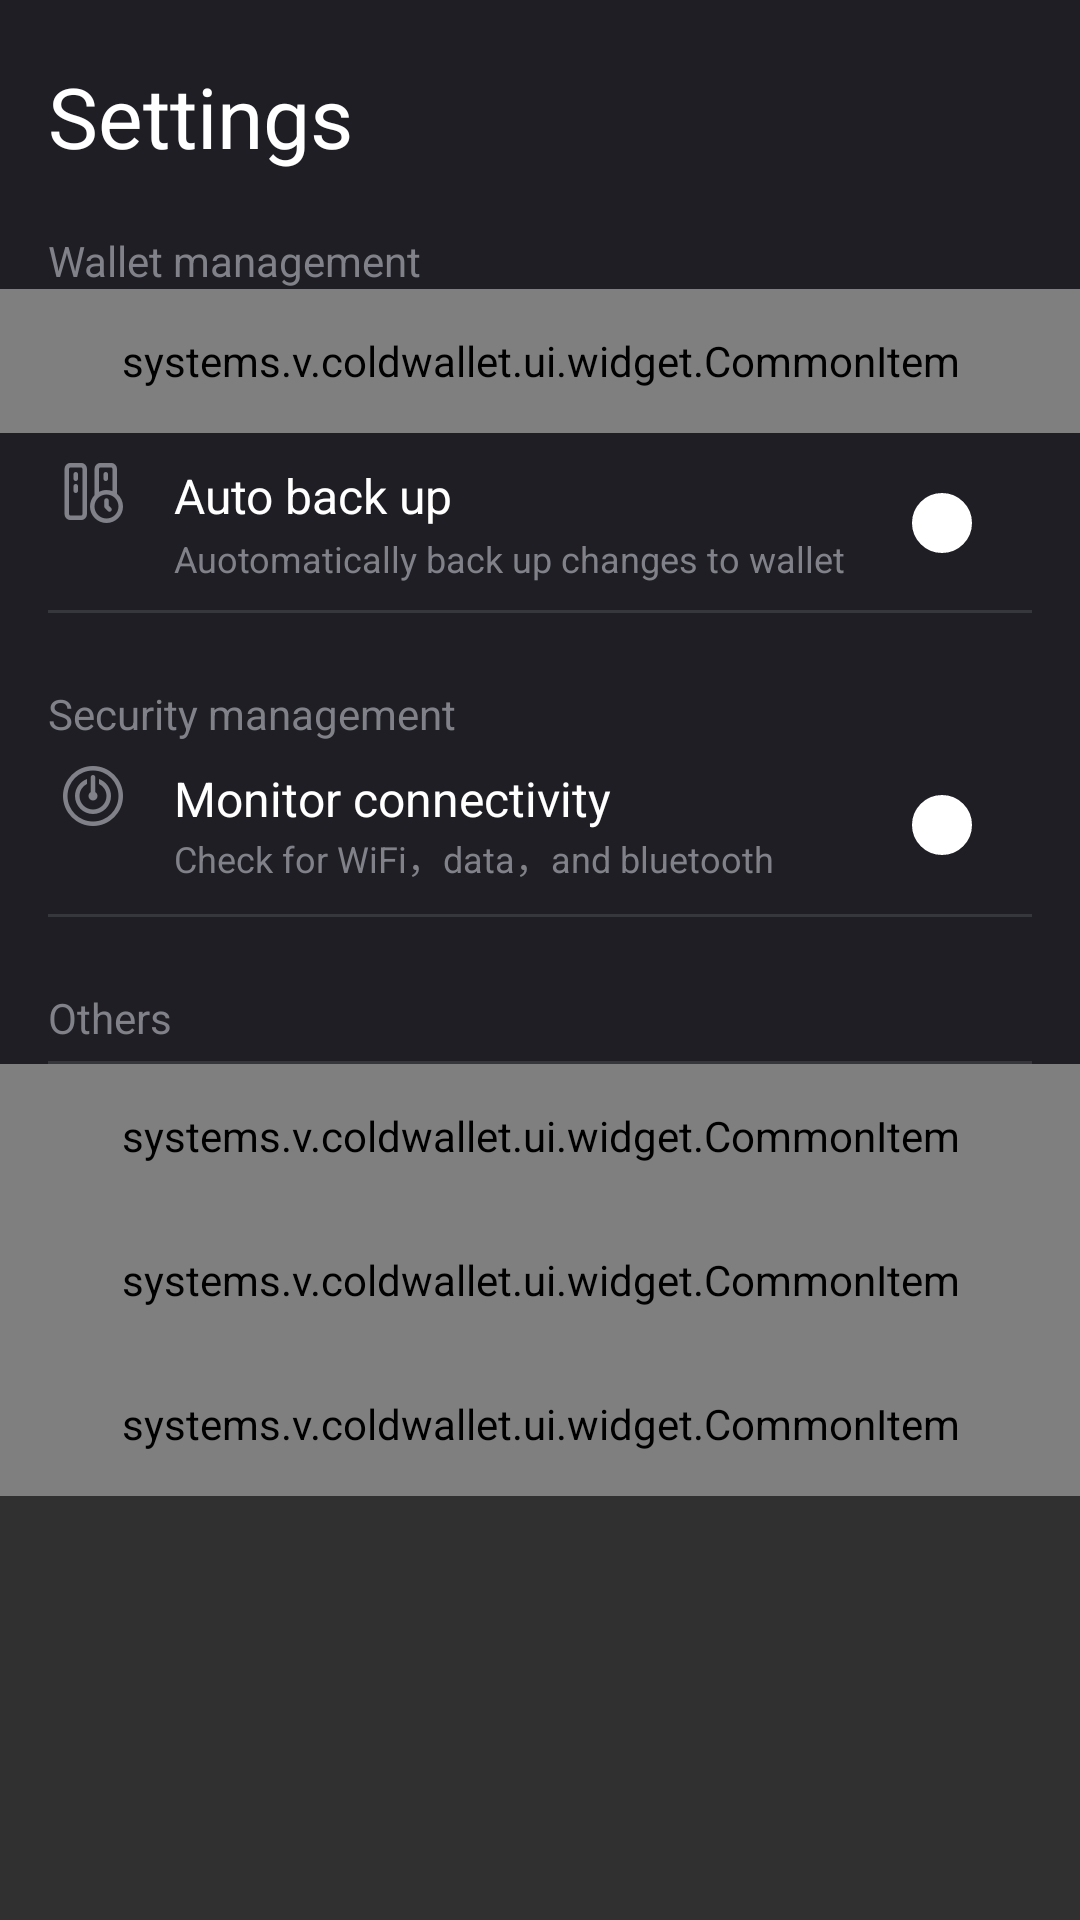

Icon bounding boxes for this 1080 x 1920 phone screenshot, format (x1, y1, x2, y2):
backup auto: (64, 463, 123, 523)
